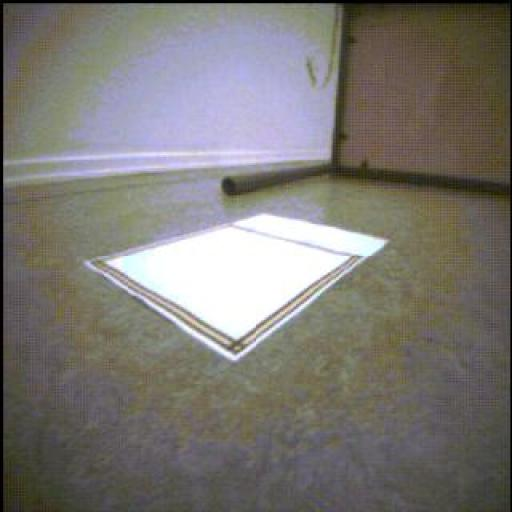Pad: (88, 215, 389, 361)
